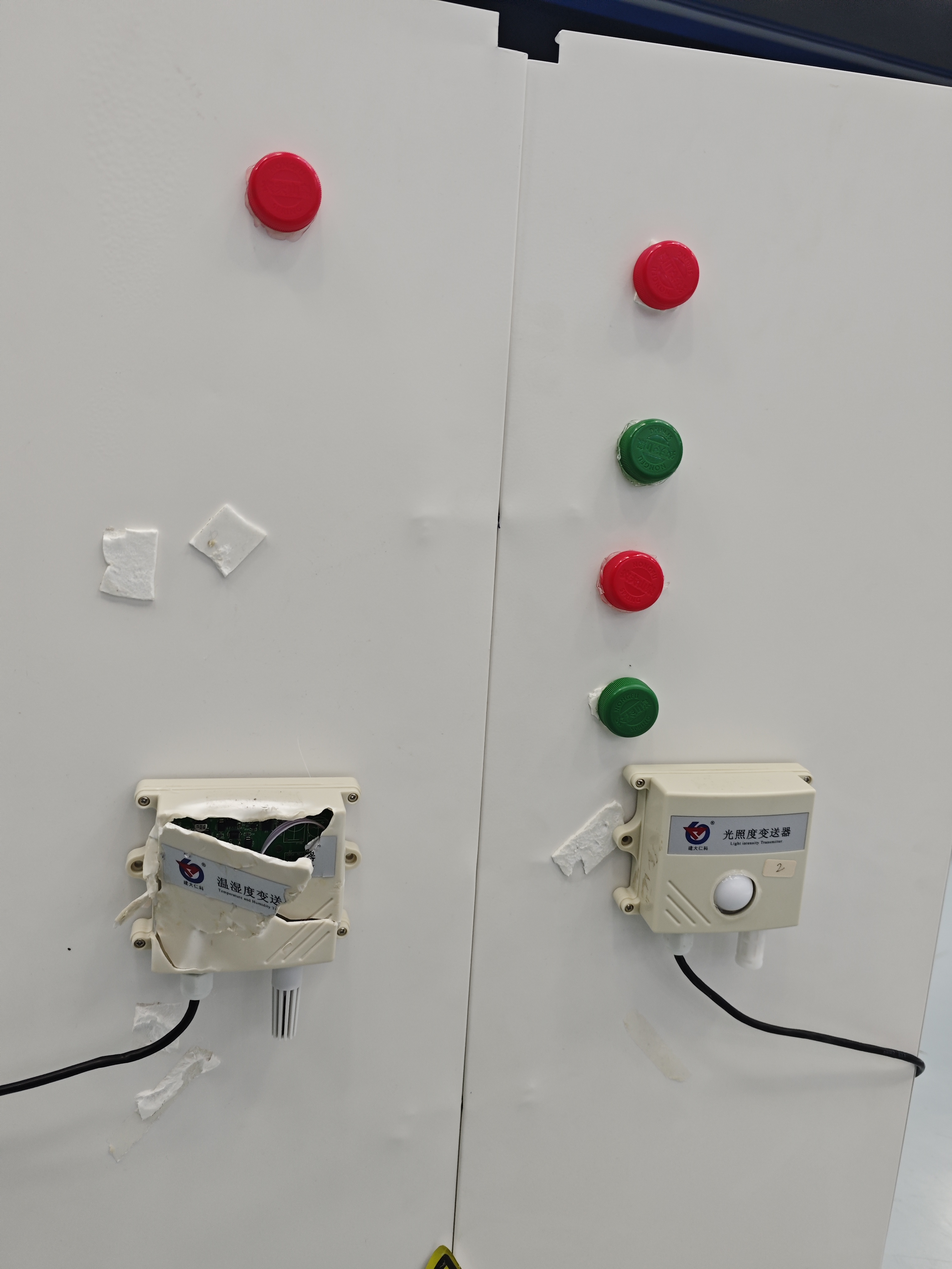red_warning: (598, 228, 763, 332), (567, 524, 679, 641), (242, 138, 340, 244)
sensor_damage: (99, 750, 395, 1080)
